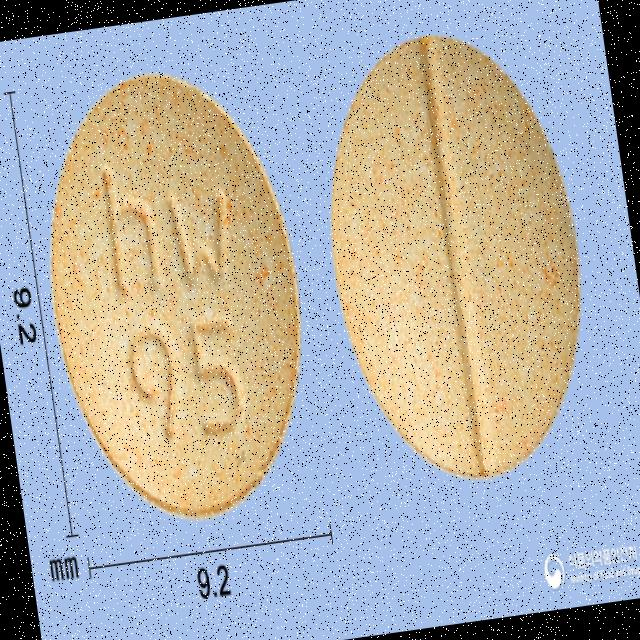Doxy: (21, 56, 332, 537), (304, 18, 608, 492)
